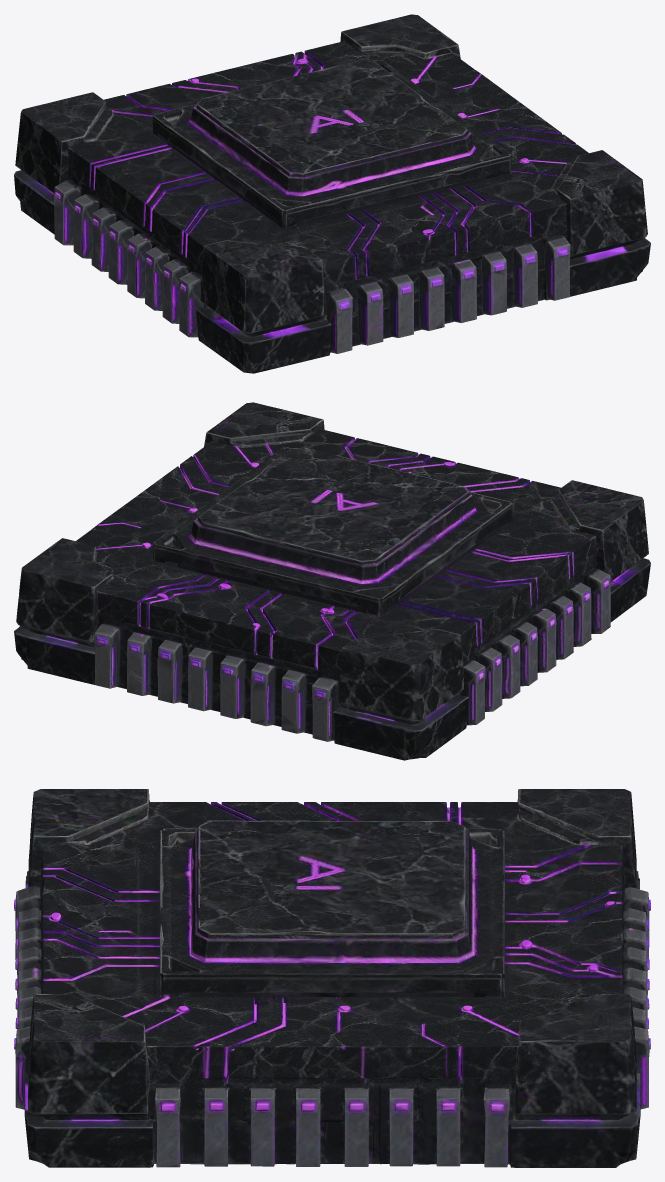
Rendered from ai_core.glb.
3 views of the same model, one above another, from view 1: azimuth 30°, elevation 25°; view 2: azimuth 150°, elevation 25°; view 3: azimuth 270°, elevation 25° (orthographic). The views are drawn at different scales.
Bounding box in the file's own units: 1.9 × 0.5369 × 1.9.
Materials: 1 (1 with a texture image).
